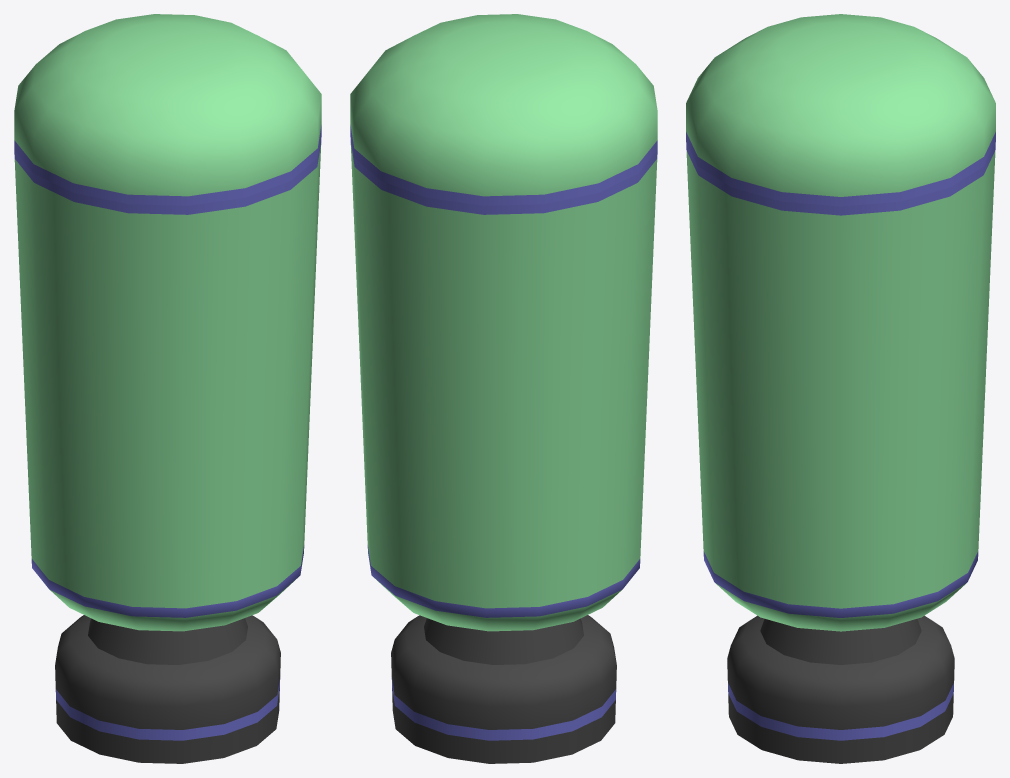
Rendered from deneme1.fbx.
3 views of the same model, side by side, from view 1: azimuth 30°, elevation 25°; view 2: azimuth 150°, elevation 25°; view 3: azimuth 270°, elevation 25° (orthographic).
Parts seen in each view (by area): view 1: Body_1.001, Head_1.001, Motor_1.001; view 2: Body_1.001, Head_1.001, Motor_1.001; view 3: Body_1.001, Head_1.001, Motor_1.001.
Part boxes in pixels (x1,y1,x2,y2): Body_1.001: [14, 134, 321, 631]; Head_1.001: [14, 14, 321, 205]; Motor_1.001: [55, 615, 280, 763]; Body_1.001: [350, 134, 657, 631]; Head_1.001: [350, 14, 657, 205]; Motor_1.001: [391, 615, 616, 763]; Body_1.001: [686, 141, 995, 631]; Head_1.001: [686, 14, 995, 206]; Motor_1.001: [727, 615, 954, 763].
Size of the model in its own units: 2 by 4.78 by 2.
